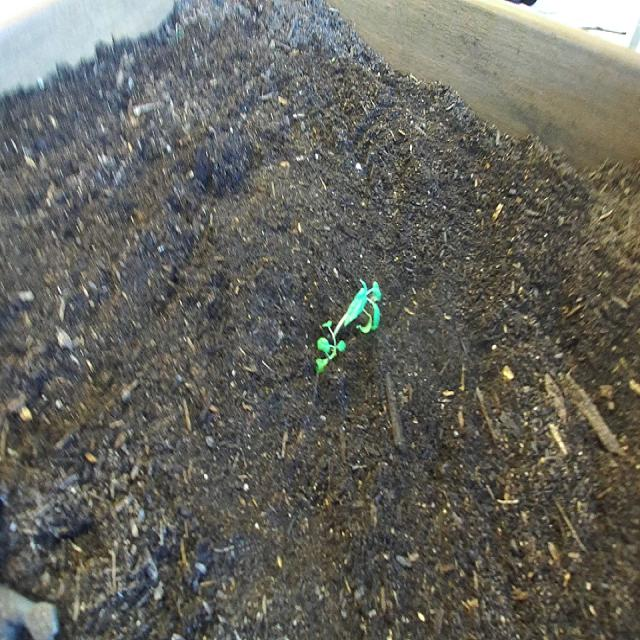Healthy: (311, 274, 385, 376)
